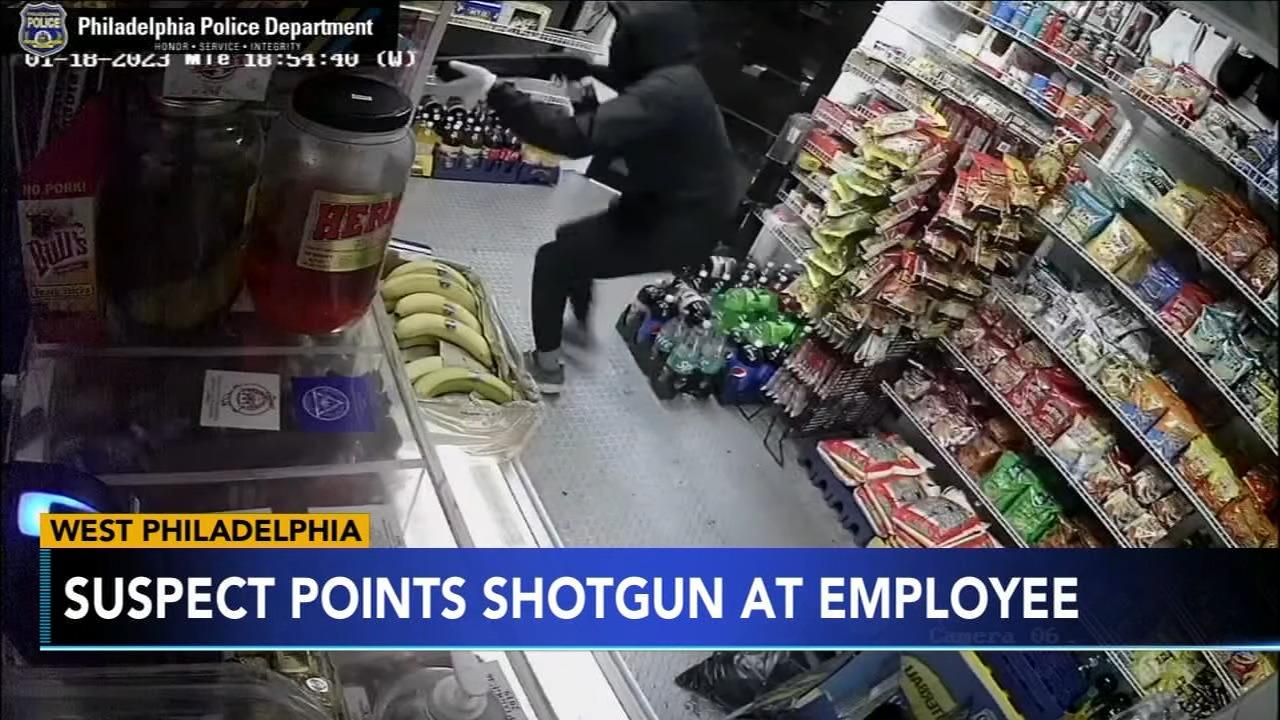shotgun: (428, 46, 614, 123)
